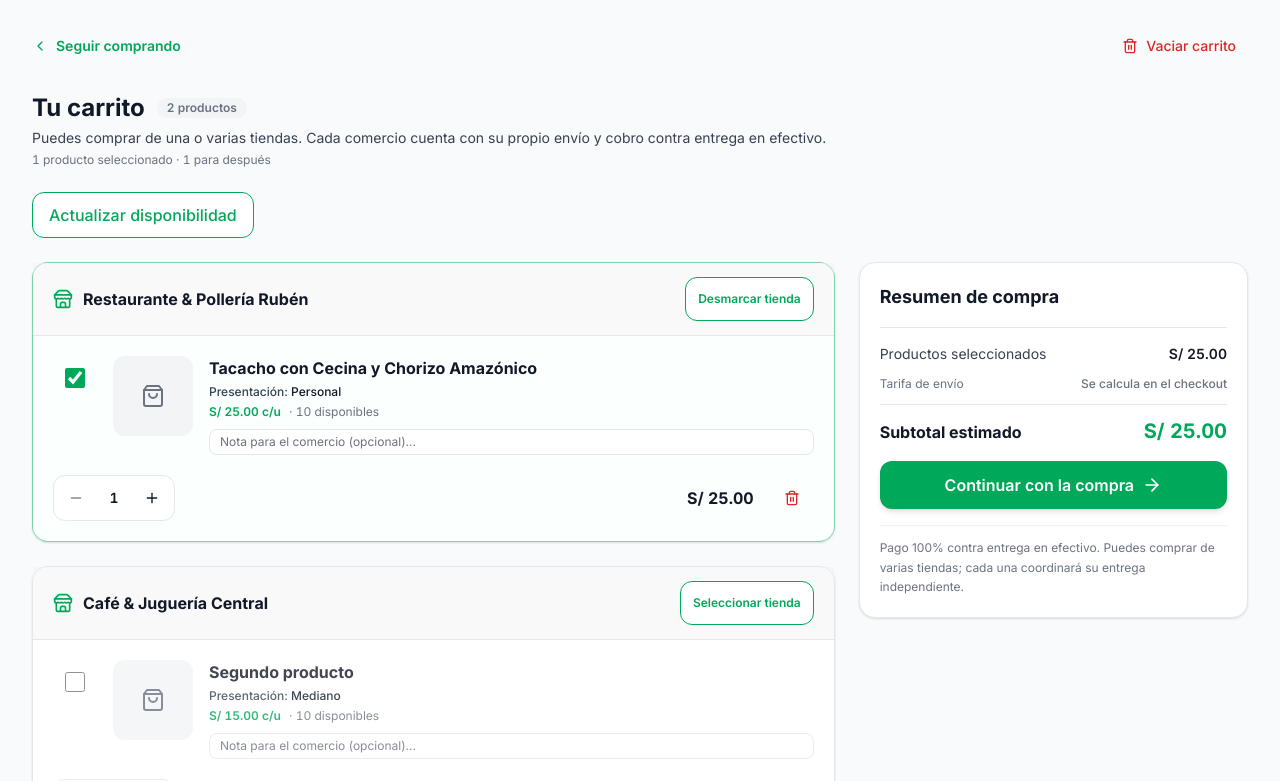
Cart selection and checkout flow › requires confirmation before clearing all products, including those saved for later
The image size is (1280, 781).
Click the button "Vaciar carrito": [1179, 46] box left=1110, top=24, right=1248, bottom=68
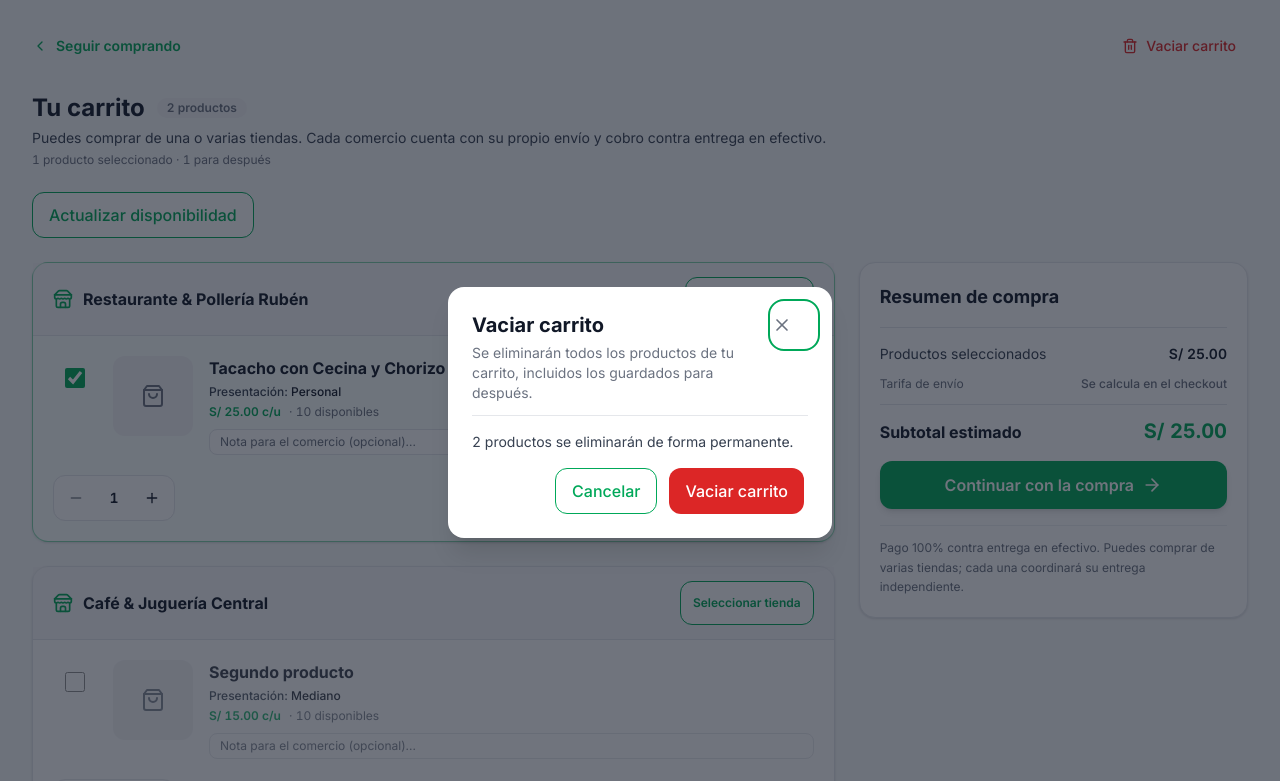
Click the button "Cancelar": [606, 490] box left=555, top=468, right=658, bottom=514
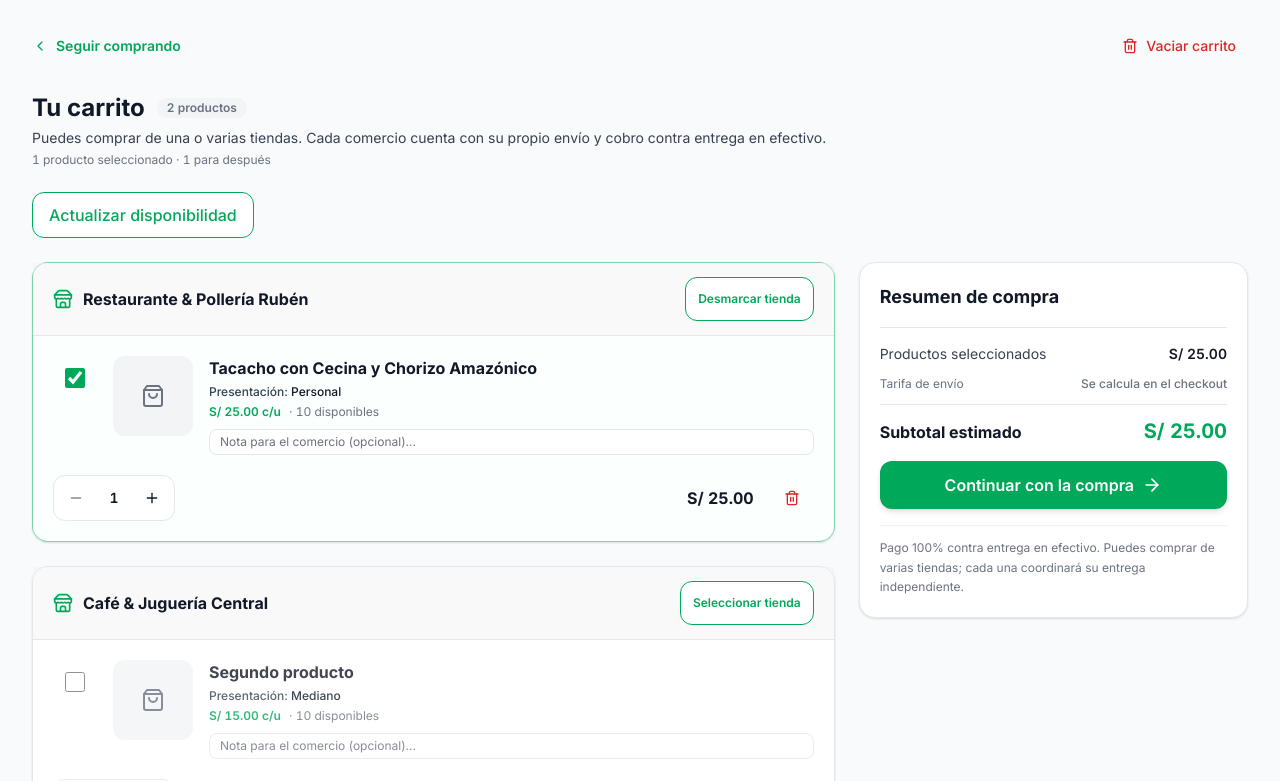
Click the button "Vaciar carrito": [1179, 46] box left=1110, top=24, right=1248, bottom=68
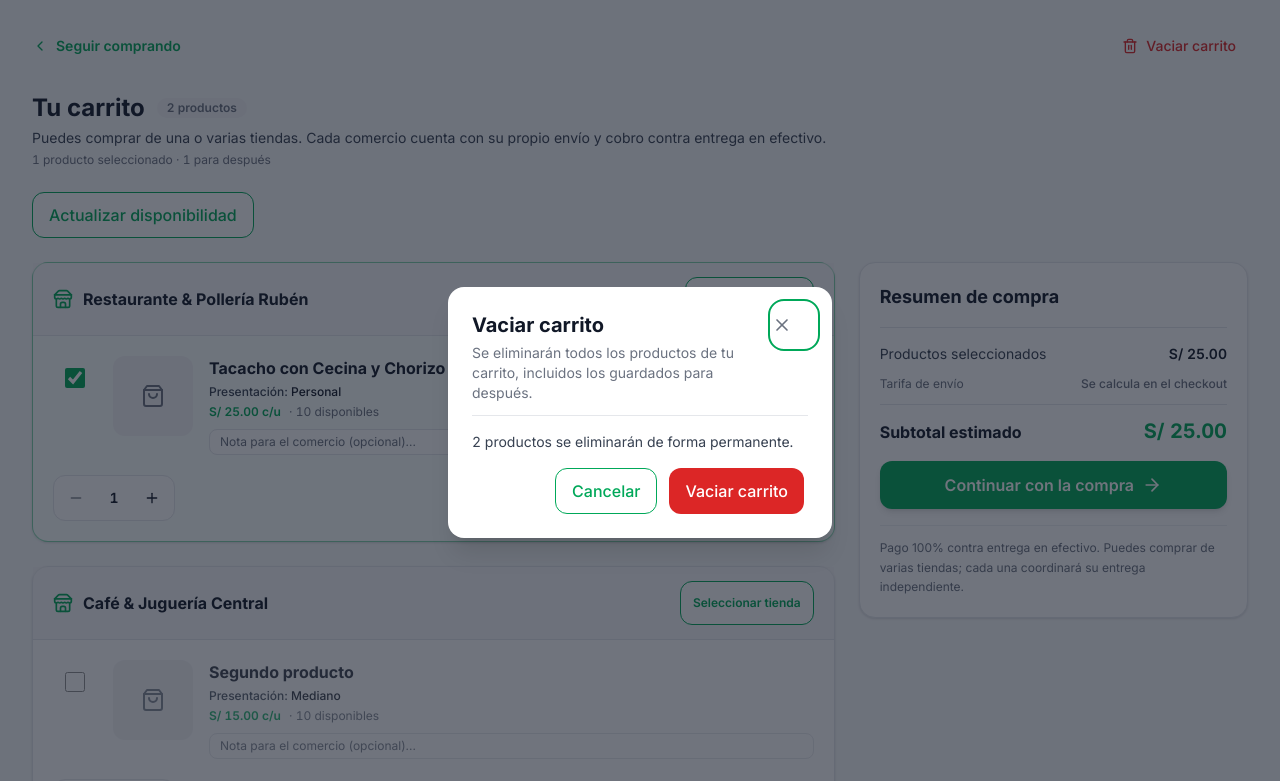
Click the button "Vaciar carrito": [737, 490] box left=670, top=468, right=804, bottom=514
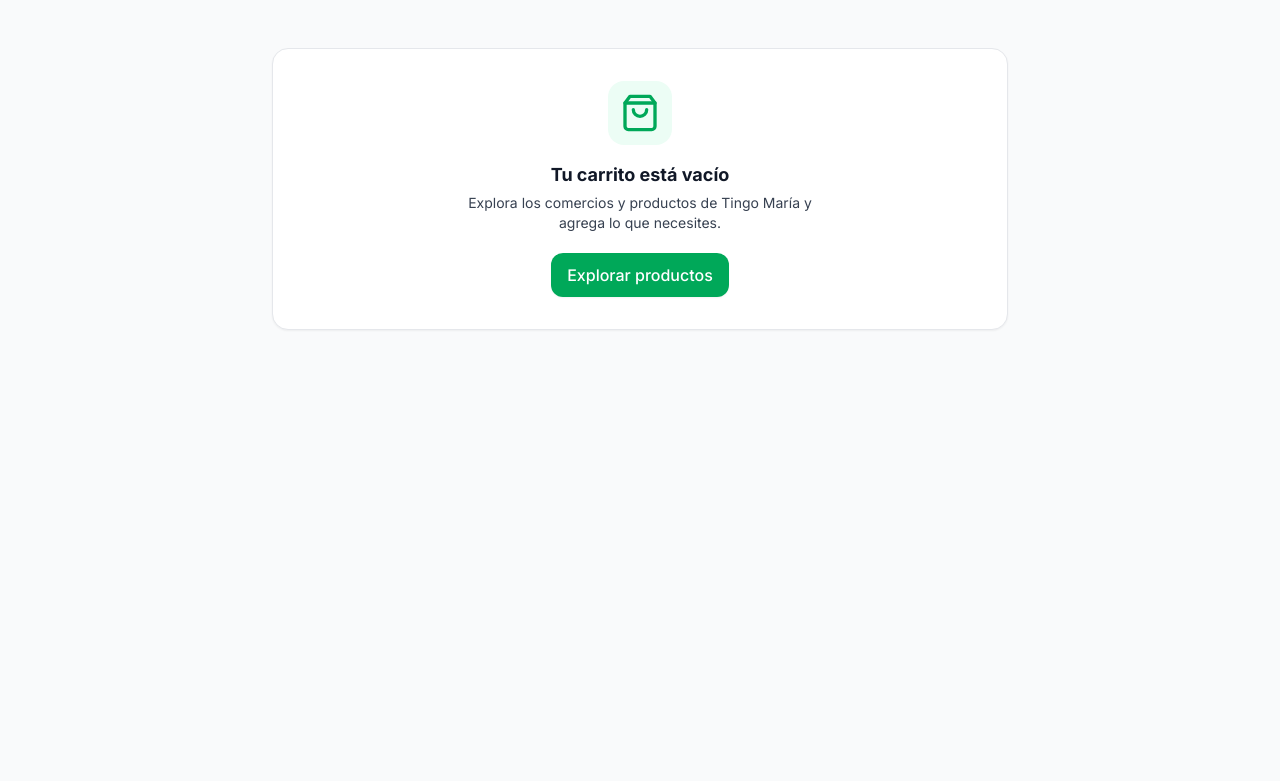
Expected: the heading "Tu carrito está vacío" is shown, left=551, top=161, right=729, bottom=189
